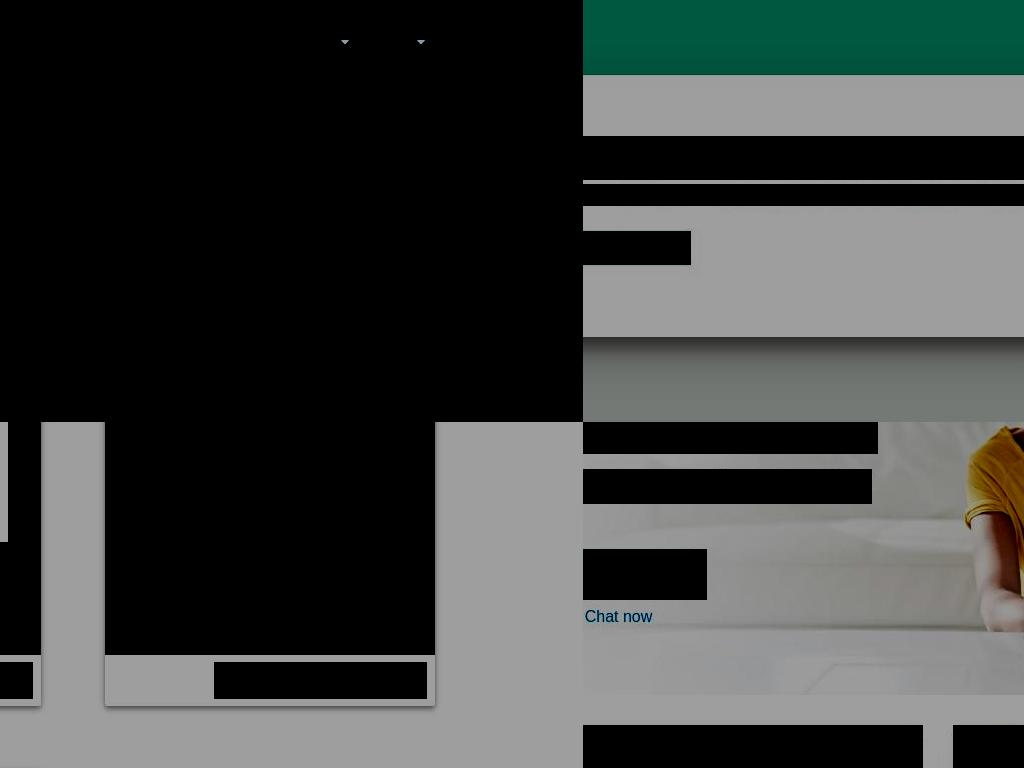button: (105, 422, 435, 655), (583, 725, 923, 768), (214, 662, 427, 699), (583, 549, 707, 600), (583, 231, 691, 265), (71, 24, 168, 60), (172, 24, 261, 60), (0, 24, 67, 60), (553, 24, 583, 60)
field: (31, 399, 583, 422)
heading: (0, 129, 583, 278), (0, 287, 583, 330), (583, 136, 1024, 180), (583, 422, 878, 454)
image: (138, 422, 402, 542)
link: (583, 469, 872, 504), (121, 559, 362, 576), (230, 672, 411, 689), (453, 24, 537, 60), (868, 184, 963, 206), (723, 184, 815, 206), (721, 469, 801, 485), (583, 608, 652, 626), (624, 184, 674, 206), (984, 184, 1024, 206), (823, 184, 861, 206)
text: (121, 559, 411, 630), (583, 725, 923, 768), (583, 469, 721, 485), (83, 24, 143, 60), (277, 24, 336, 60), (184, 24, 236, 60), (583, 565, 675, 583), (0, 24, 42, 60), (377, 24, 412, 60), (674, 184, 725, 206), (583, 184, 625, 206), (565, 24, 583, 60), (962, 184, 985, 206), (800, 469, 830, 485), (814, 184, 823, 206), (859, 184, 868, 206), (1023, 184, 1024, 206)
